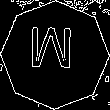M_S: (32, 29, 78, 81)
